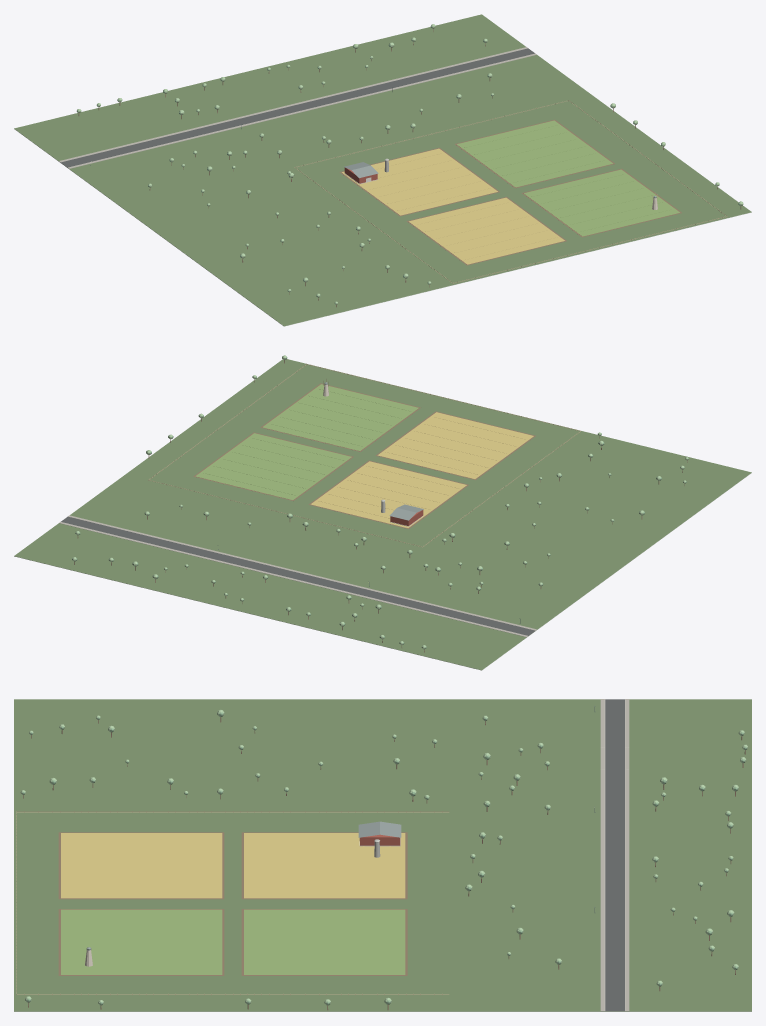
Rendered from chunk_6_4_high.glb.
3 renders of one model, top to bottom at view 1: azimuth 30°, elevation 25°; view 2: azimuth 150°, elevation 25°; view 3: azimuth 270°, elevation 25°, orthographic. The views are drawn at different scales.
Parts seen in each view (by area): view 1: city_forest_floor, city_field_corn, city_field_wheat, city_world_asphalt, city_world_sidewalk, city_field_soil, city_wood, city_foliage, city_grass, city_curb; view 2: city_forest_floor, city_field_corn, city_field_wheat, city_world_asphalt, city_world_sidewalk, city_field_soil, city_foliage, city_wood, city_grass, city_curb; view 3: city_forest_floor, city_field_corn, city_field_wheat, city_world_asphalt, city_field_soil, city_world_sidewalk, city_foliage, city_wood, city_curb, city_foliage_dark, city_grass, city_roof_slate.
Part boxes in pixels (box(x1,y1,x2,y2)): city_forest_floor: box(14, 14, 751, 326); city_field_corn: box(457, 120, 680, 236); city_field_wheat: box(342, 148, 564, 264); city_world_asphalt: box(61, 48, 534, 167); city_world_sidewalk: box(59, 47, 536, 168); city_field_soil: box(339, 119, 681, 265); city_wood: box(294, 100, 727, 283); city_foliage: box(77, 24, 743, 304); city_grass: box(14, 129, 751, 326); city_curb: box(60, 48, 534, 167); city_forest_floor: box(14, 359, 751, 669); city_field_corn: box(195, 384, 418, 499); city_field_wheat: box(310, 412, 533, 528); city_world_asphalt: box(61, 516, 535, 635); city_world_sidewalk: box(59, 515, 536, 637); city_field_soil: box(193, 383, 535, 529); city_foliage: box(72, 355, 688, 649); city_wood: box(148, 364, 580, 547); city_grass: box(14, 473, 751, 670); city_curb: box(61, 516, 535, 635); city_forest_floor: box(14, 699, 751, 1011); city_field_corn: box(61, 909, 405, 974); city_field_wheat: box(61, 833, 405, 898); city_world_asphalt: box(605, 699, 624, 1011); city_field_soil: box(58, 832, 407, 975); city_world_sidewalk: box(600, 699, 629, 1011); city_foliage: box(20, 709, 747, 1005); city_wood: box(16, 811, 448, 995); city_curb: box(601, 699, 628, 1010); city_foliage_dark: box(22, 712, 747, 1004); city_grass: box(14, 1011, 751, 1011); city_roof_slate: box(86, 821, 401, 950).
Bounding box in the file's own units: 513 × 18.3 × 512.
